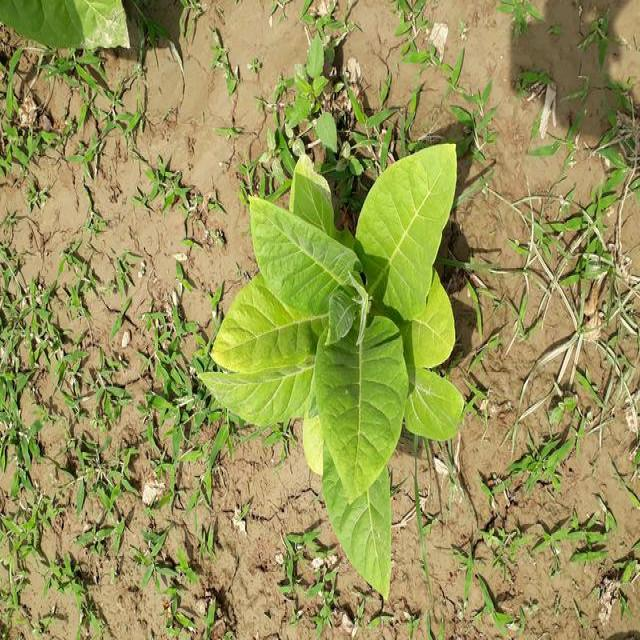crop: (210, 151, 466, 588), (6, 0, 133, 49)
